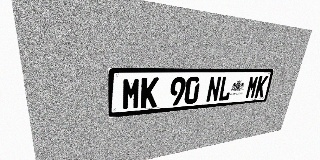0: (184, 77, 201, 105)
9: (169, 77, 187, 106)
K: (140, 77, 159, 108), (254, 76, 268, 98)
L: (218, 76, 233, 101)
M: (122, 78, 141, 110), (245, 76, 259, 99)
N: (206, 76, 222, 102)
